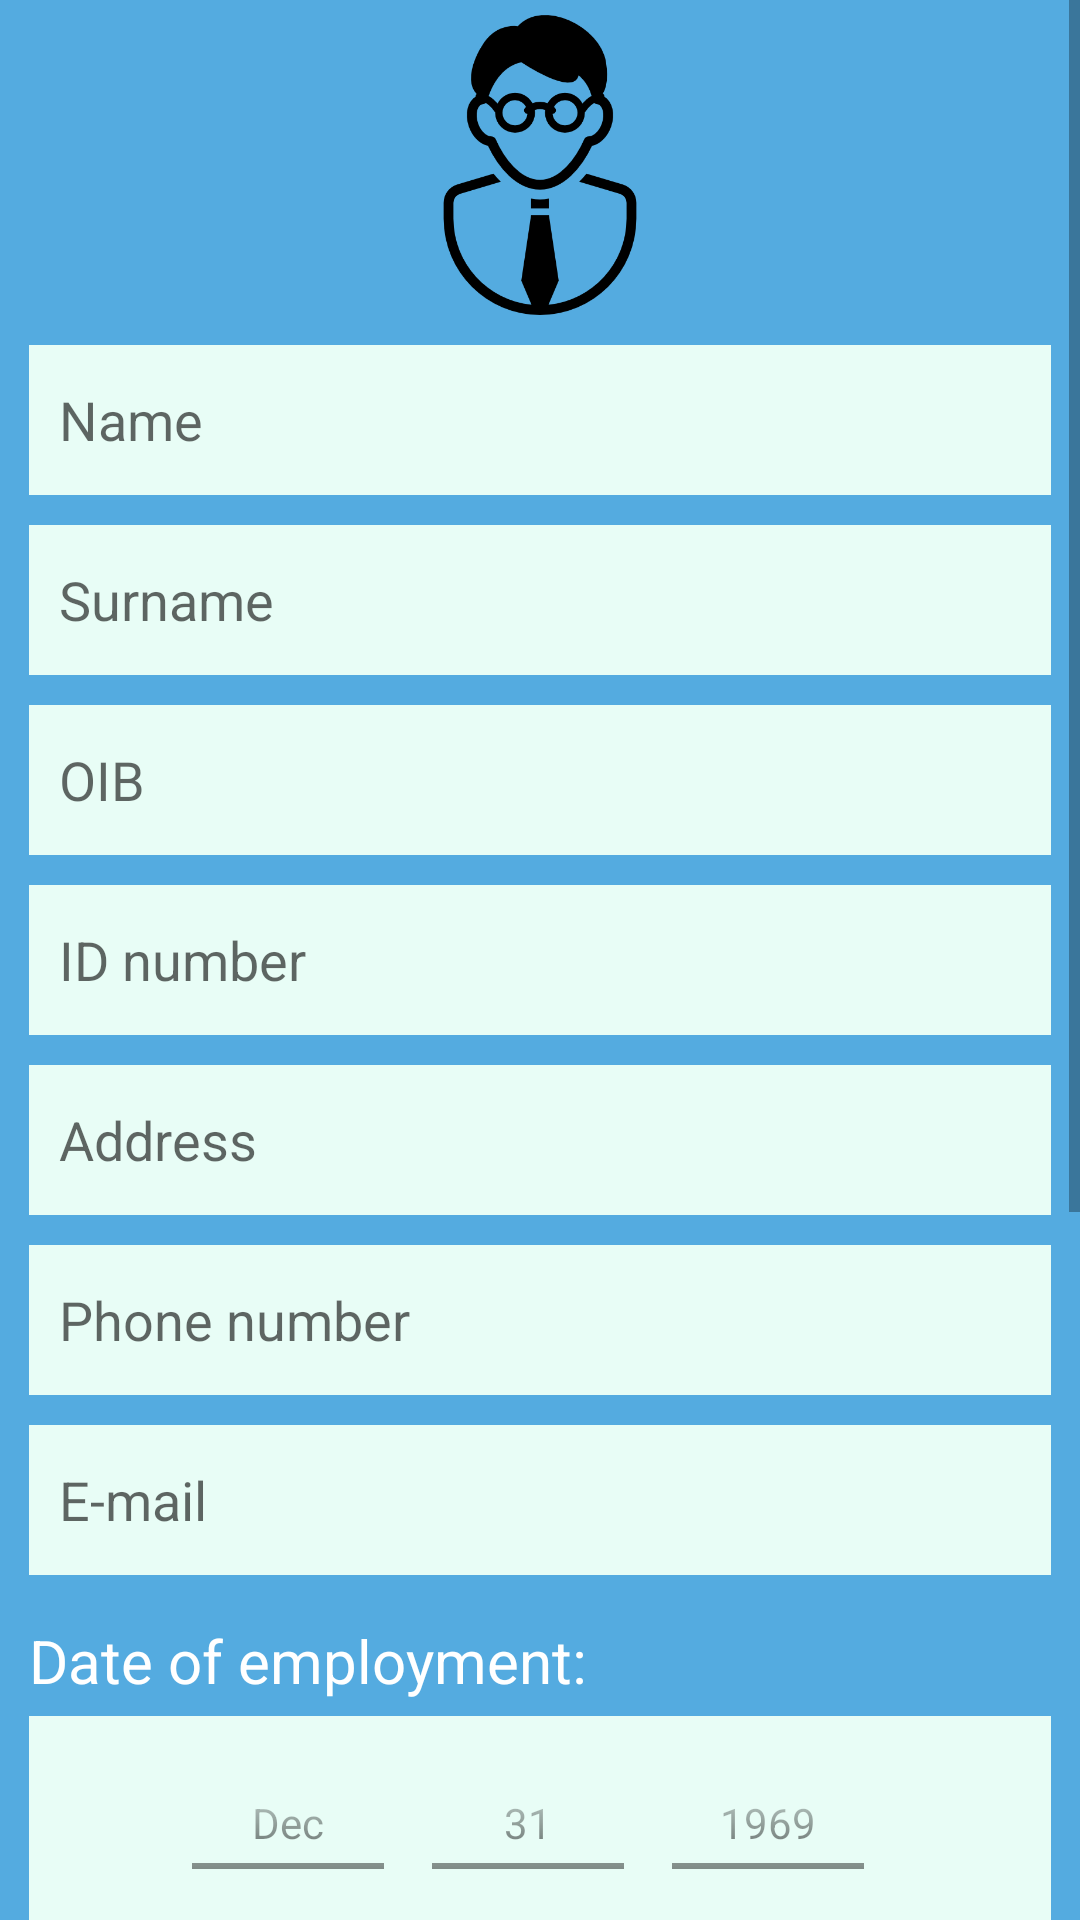

Icon bounding boxes for this 1080w x 1920h phone screenshot, format (x1, y1, x2, y2):
mojprofil: (443, 15, 637, 315)
